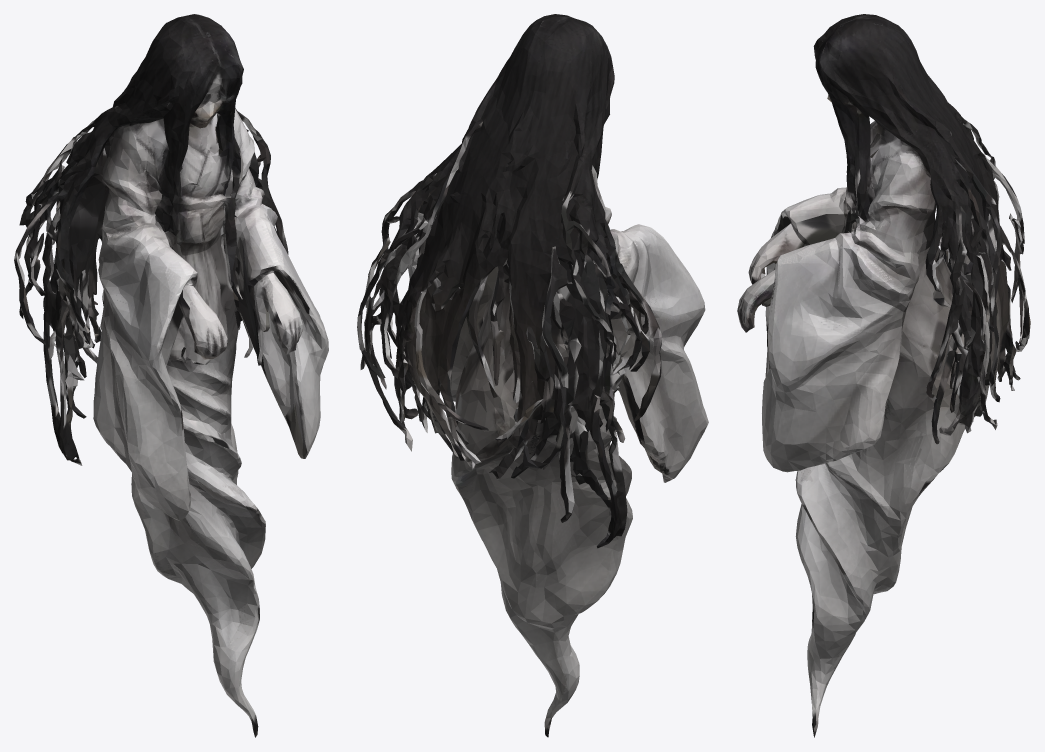
The model's file is yurei.glb.
The picture shows the model from 3 angles, left to right: view 1: azimuth 30°, elevation 25°; view 2: azimuth 150°, elevation 25°; view 3: azimuth 270°, elevation 25°; orthographic projection. The views are drawn at different scales.
Visible parts, largest first — view 1: temp_mesh.ply; view 2: temp_mesh.ply; view 3: temp_mesh.ply.
Boxes of the visible parts, x1,y1,x2,y2 form: temp_mesh.ply: (14,14,328,737); temp_mesh.ply: (357,14,708,737); temp_mesh.ply: (737,14,1030,737).
Bounding box in the file's own units: 0.7996 × 1.97 × 0.7461.
1 material, 1 textured.
